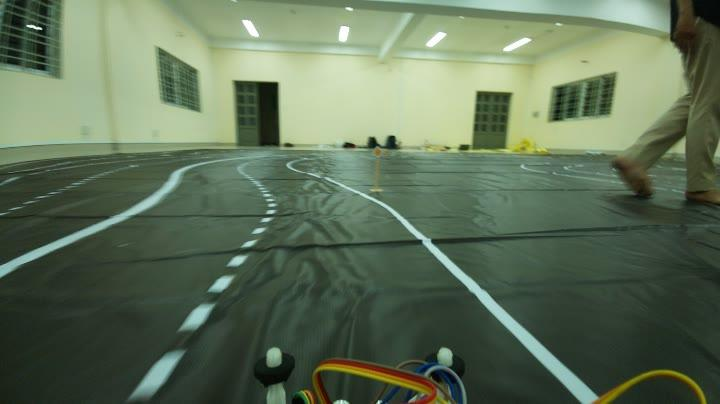priority: (372, 146, 385, 162)
